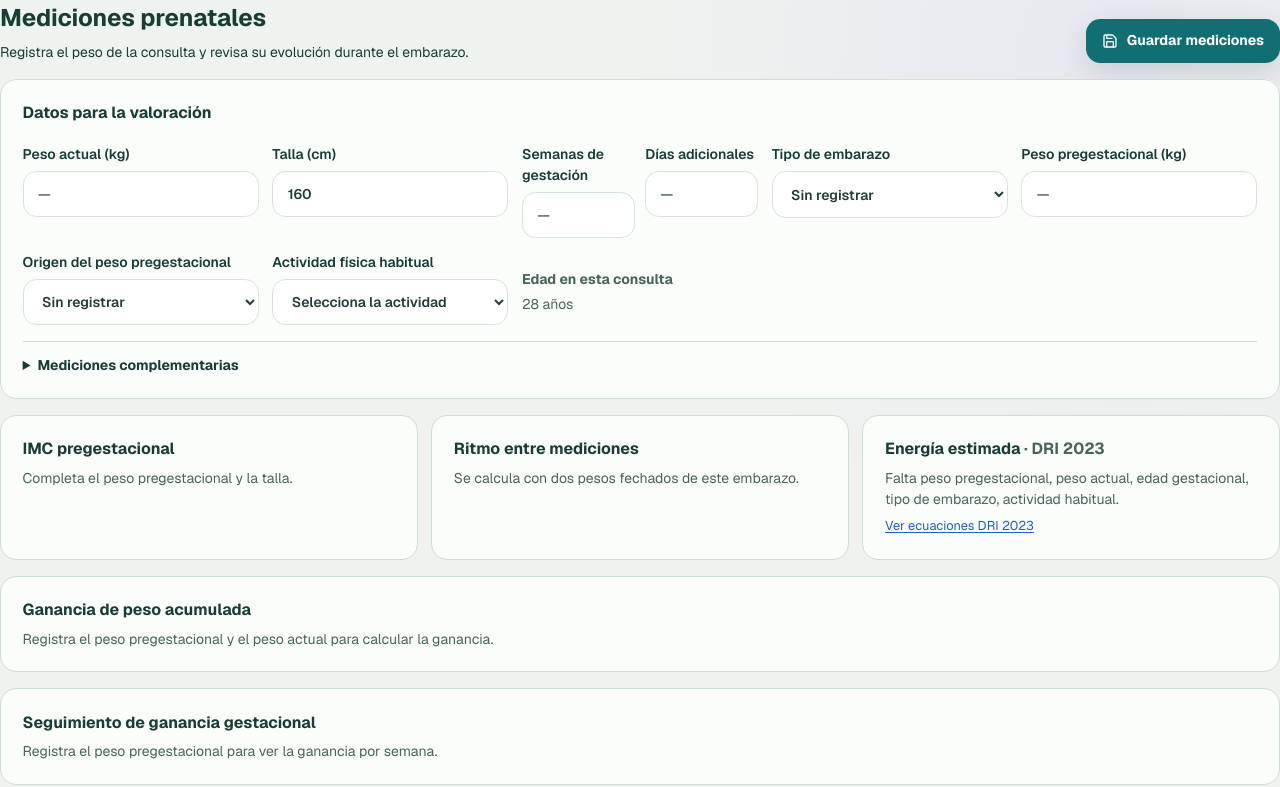
Test: private prenatal workspace › explains the missing data under each chart and clears the notices when the data is entered
The image size is (1280, 787).
Expected: the heading "Mediciones prenatales" is shown, [0,2,266,33]
Type "62" into the field labelled "Peso actual (kg)" at {"x": 141, "y": 194}, box [23,171,259,217]
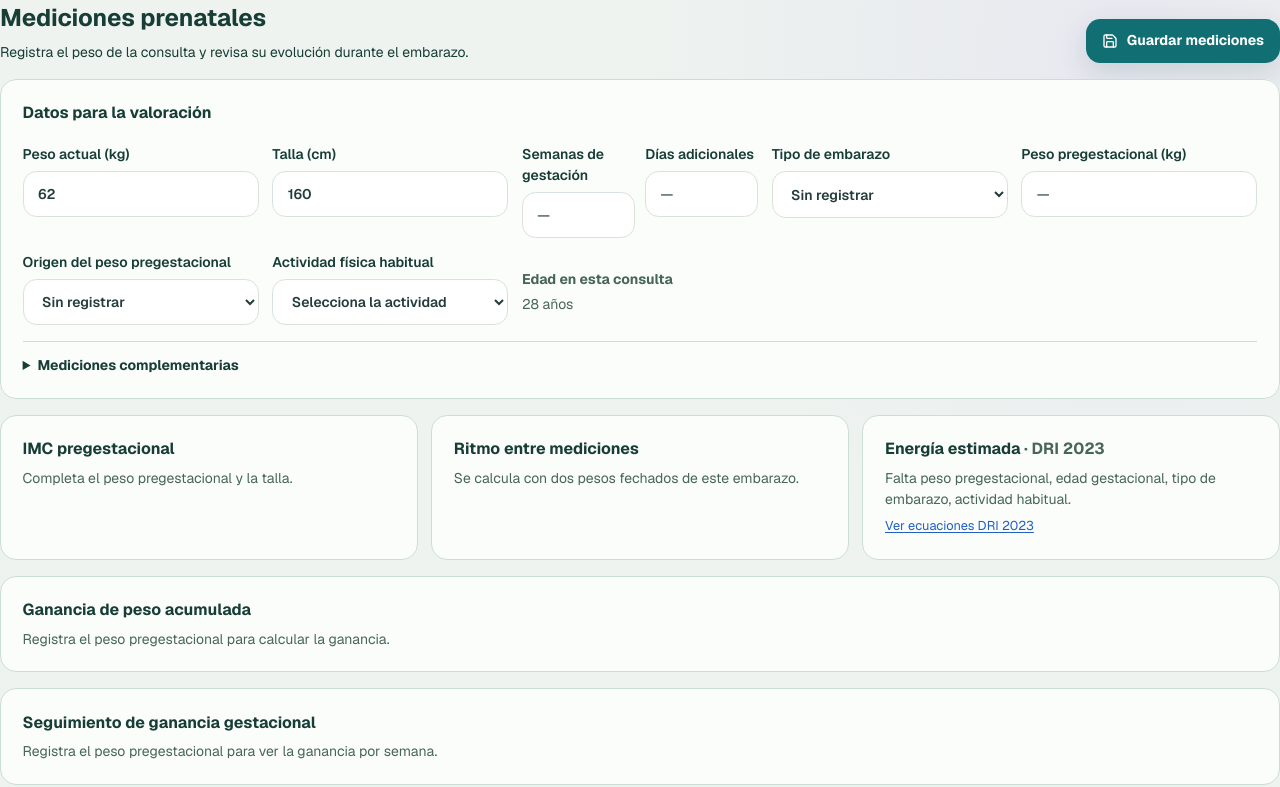
Now the text "Registra el peso pregestacional para calcular la ganancia." is shown, box [23,630,390,648]
Type "60" into the field labelled "Peso pregestacional (kg)" at {"x": 1139, "y": 194}, box [1021,171,1257,217]
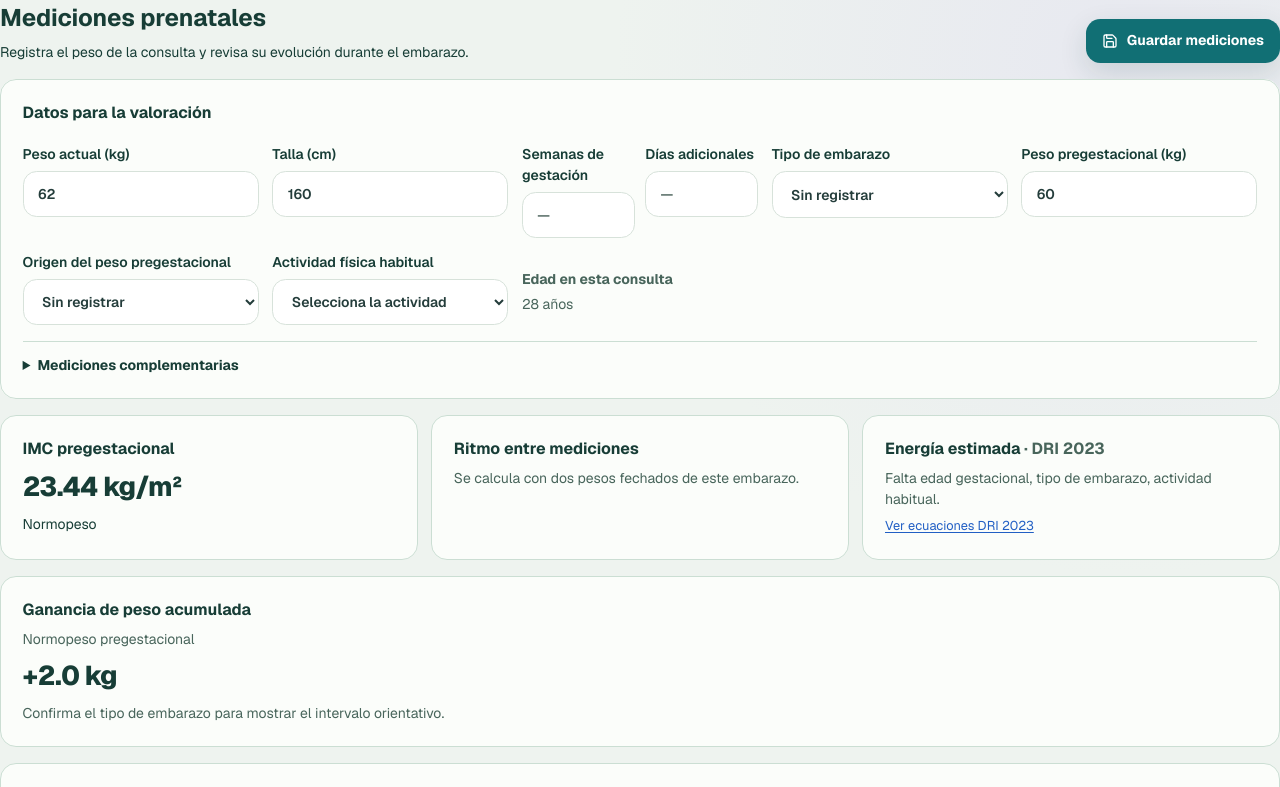
Now the text "Confirma el tipo de embarazo para mostrar el intervalo orientativo." is shown, box [23,704,444,722]
Select "Único" in the dropdown labelled "Tipo de embarazo" at {"x": 890, "y": 195}, box [772,171,1008,218]
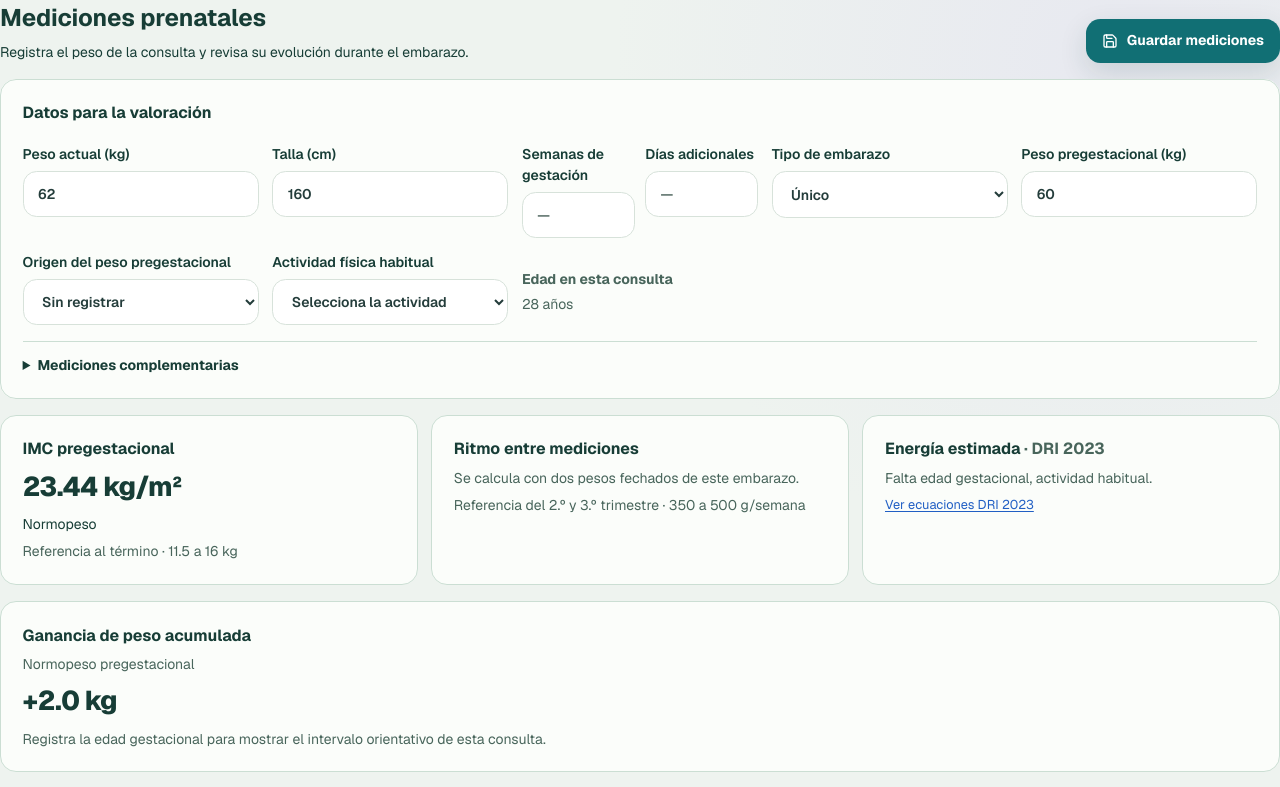
Now the text "Registra la edad gestacional para mostrar el intervalo orientativo de esta consulta." is shown, box [23,730,546,748]
Type "14" into the field labelled "Semanas de gestación" at {"x": 578, "y": 215}, box [522,192,635,238]
(page scrolled)
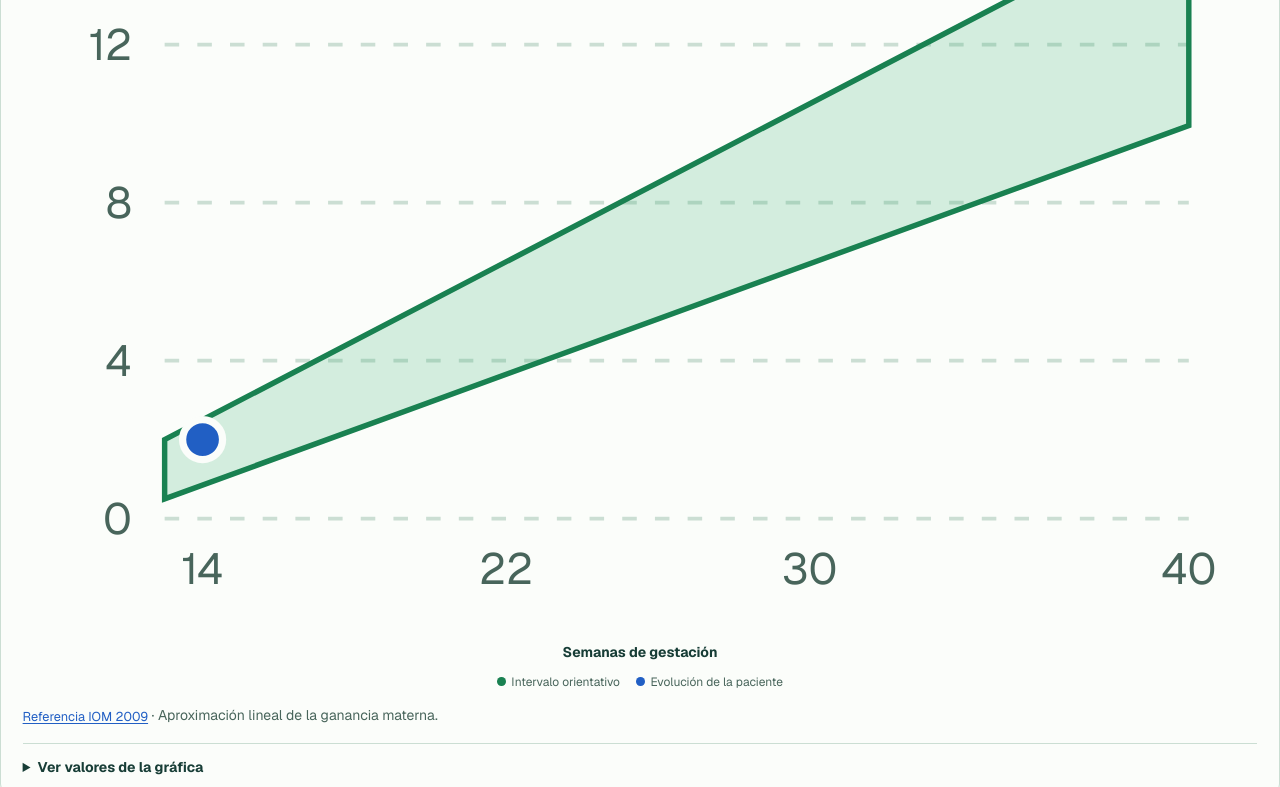
Expected: the text "Confirma el tipo de embarazo" is not shown
Now the text "Evolución de la paciente" is shown, box [636,673,783,691]
Now the text "Registra la edad gestacional" is gone
